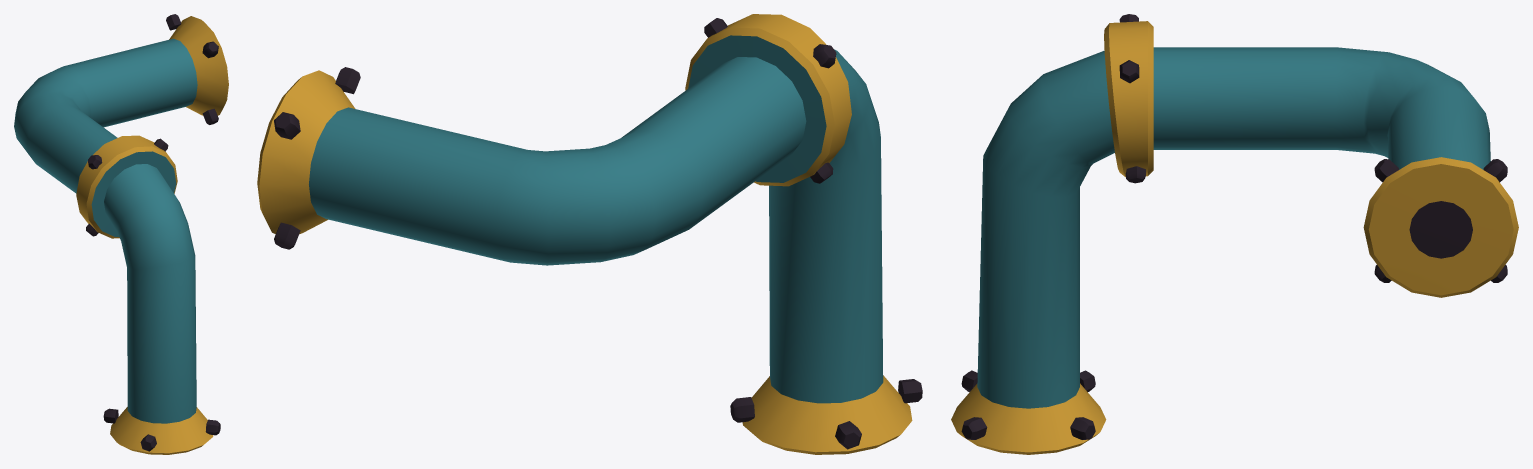
The model's file is PipeRun_19.glb.
The picture shows the model from 3 angles, left to right: view 1: azimuth 30°, elevation 25°; view 2: azimuth 150°, elevation 25°; view 3: azimuth 270°, elevation 25°; orthographic projection. The views are drawn at different scales.
Parts seen in each view (by area): view 1: PipeRun_19; view 2: PipeRun_19; view 3: PipeRun_19.
Part boxes in pixels (x1,y1,x2,y2): PipeRun_19: [14, 14, 228, 454]; PipeRun_19: [257, 14, 922, 454]; PipeRun_19: [951, 14, 1518, 454].
Size of the model in its own units: 2.8 by 3.15 by 4.09.
